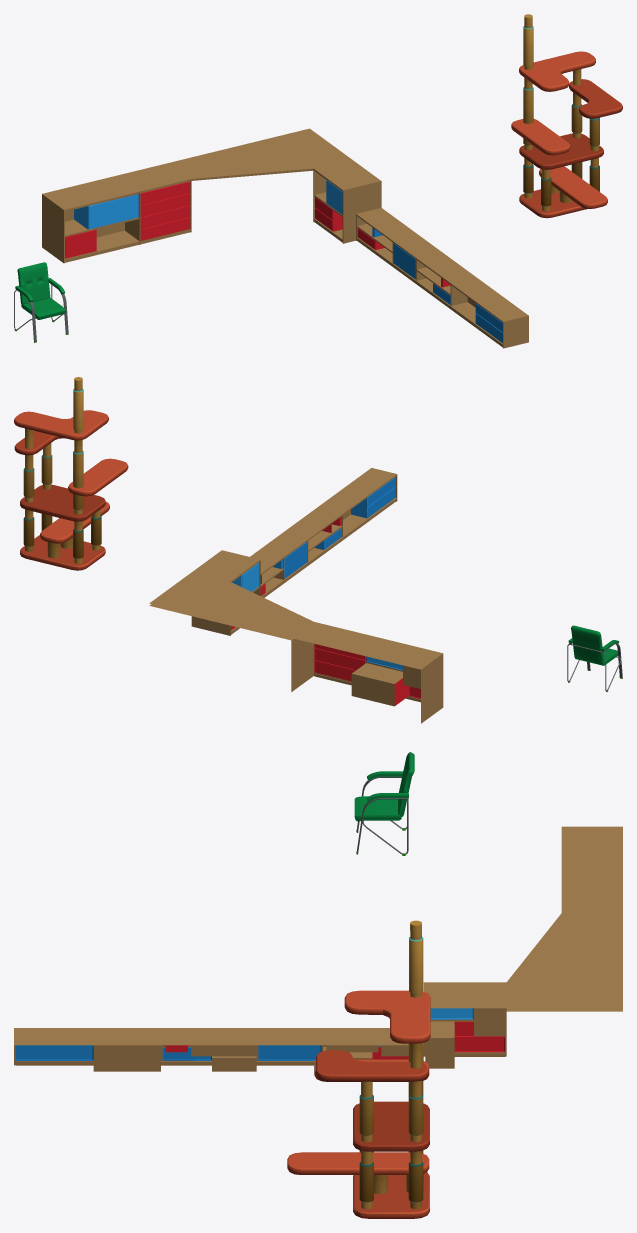
File: Jump shelf.fbx
3 views of the same model, one above another, from view 1: azimuth 30°, elevation 25°; view 2: azimuth 150°, elevation 25°; view 3: azimuth 270°, elevation 25° (orthographic). The views are drawn at different scales.
Visible parts, largest first — view 1: table shelf, Jump shelf, Chairrr; view 2: table shelf, Jump shelf, Chairrr; view 3: table shelf, Jump shelf, Chairrr.
Boxes of the visible parts, x1,y1,x2,y2 form: table shelf: (42, 128, 528, 348); Jump shelf: (511, 14, 622, 218); Chairrr: (14, 262, 68, 342); table shelf: (149, 468, 443, 723); Jump shelf: (14, 377, 128, 570); Chairrr: (567, 625, 622, 691); table shelf: (14, 826, 622, 1071); Jump shelf: (287, 920, 430, 1218); Chairrr: (354, 752, 414, 855).
Bounding box in the file's own units: 908 × 278 × 595.
Materials: 1 (1 with a texture image).
